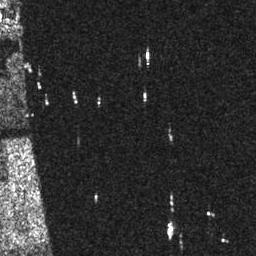ship: (167, 221, 175, 241), (71, 90, 78, 106), (145, 49, 151, 65), (25, 62, 32, 73), (142, 91, 147, 103), (36, 82, 41, 90)
